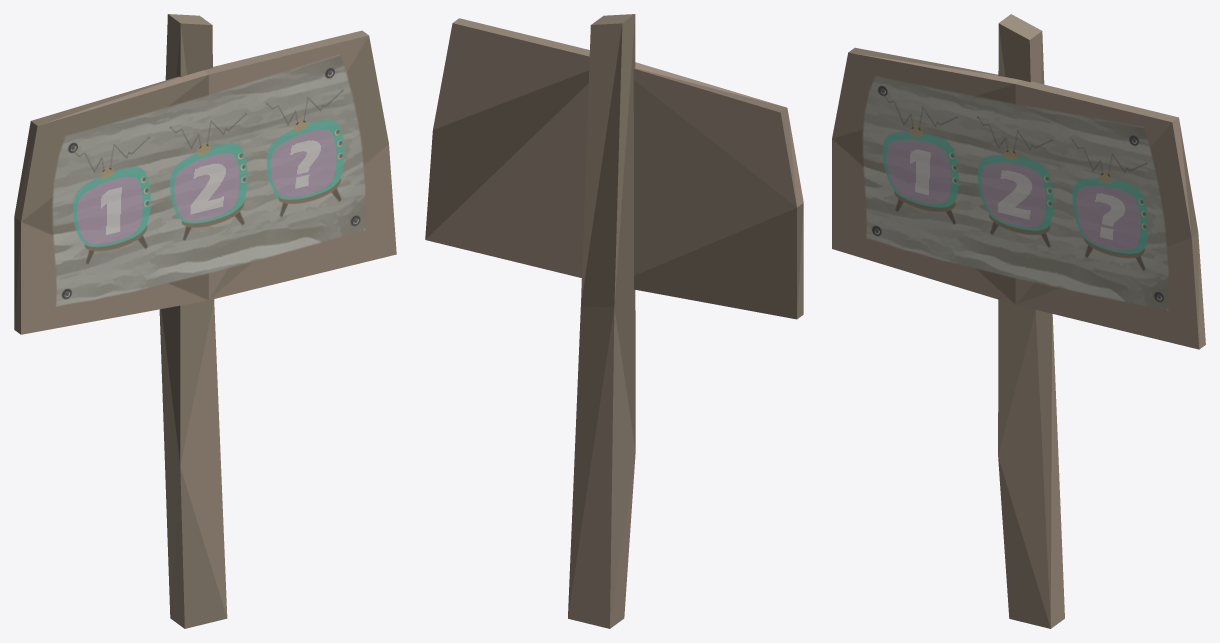
File: cartel_ejercicio_emociones_empatia.FBX
3 renders of one model, left to right at view 1: azimuth 30°, elevation 25°; view 2: azimuth 150°, elevation 25°; view 3: azimuth 330°, elevation 25°, orthographic. The views are drawn at different scales.
Parts seen in each view (by area): view 1: Poste007; view 2: Poste007; view 3: Poste007.
Part boxes in pixels (bbox=[...]): Poste007: bbox=[14, 14, 396, 628]; Poste007: bbox=[425, 14, 803, 628]; Poste007: bbox=[832, 14, 1205, 628].
Size of the model in its own units: 87.02 by 135 by 10.74.
1 material, 1 textured.
